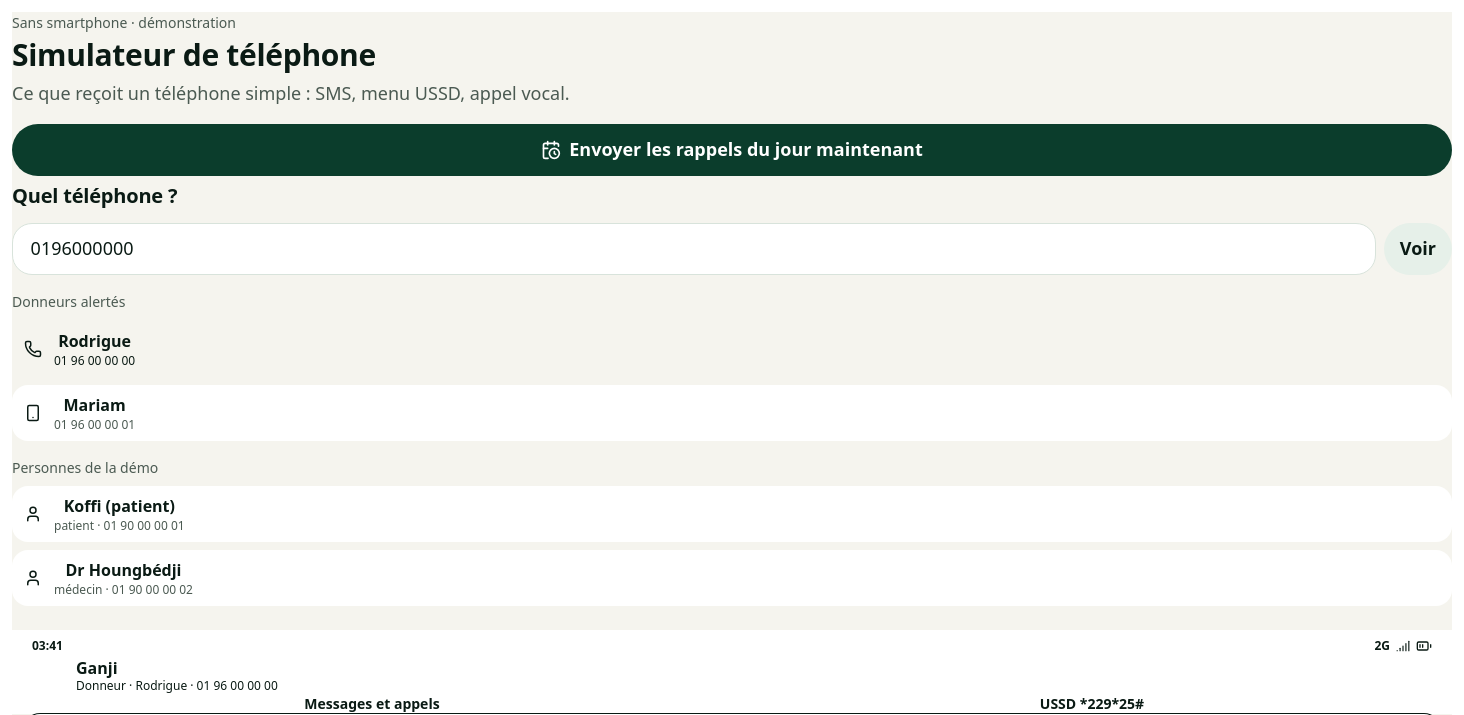
rappels du jour › montre le refus de l’API sans bloquer le bouton
The image size is (1464, 715).
Click the button "Envoyer les rappels du jour maintenant".
click(732, 150)  # box [12,124,1452,176]
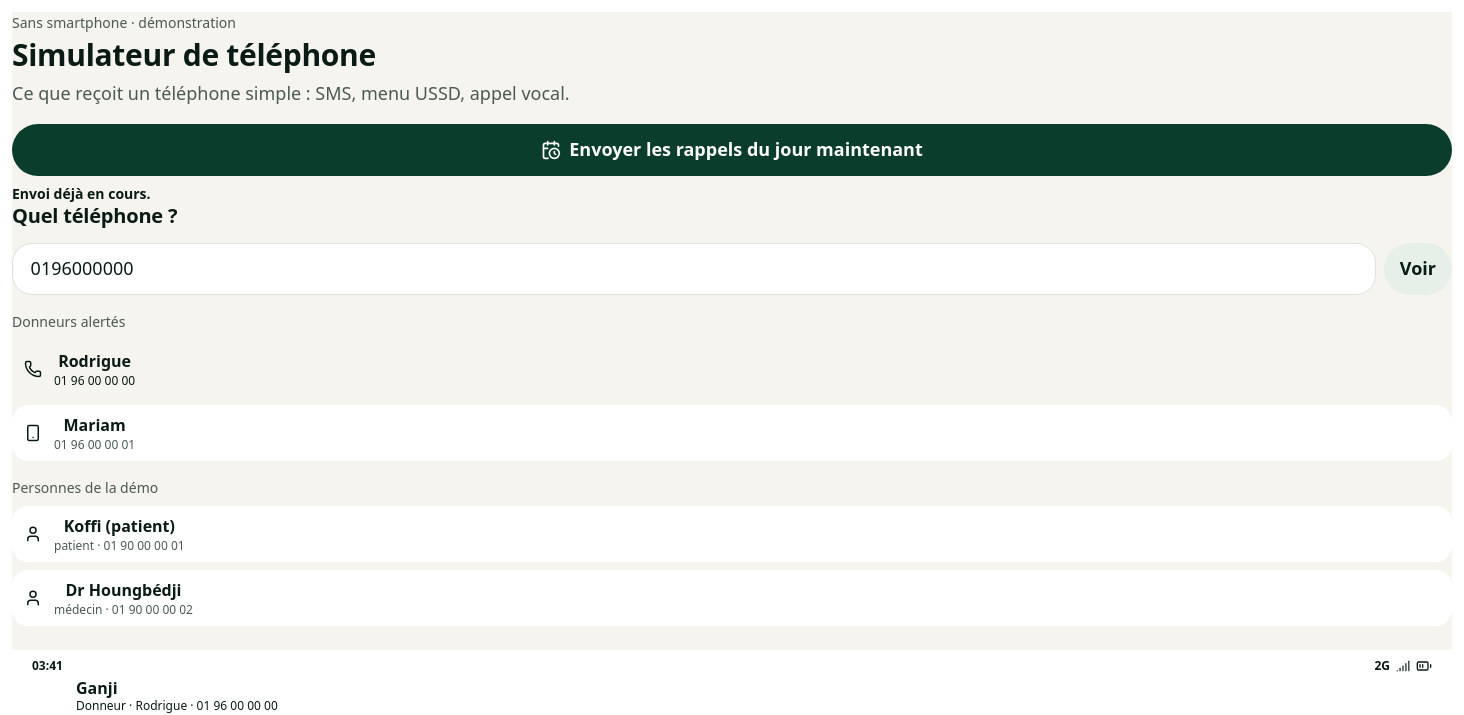
Now the text "Envoi déjà en cours." is shown, box [12,184,151,203]
